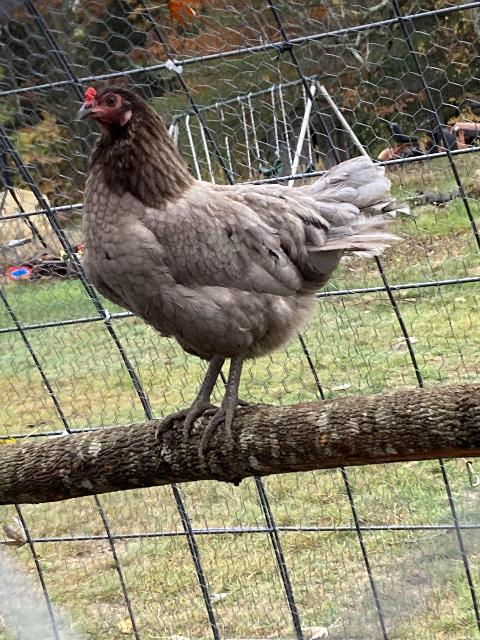Chicken: (78, 81, 405, 454)
